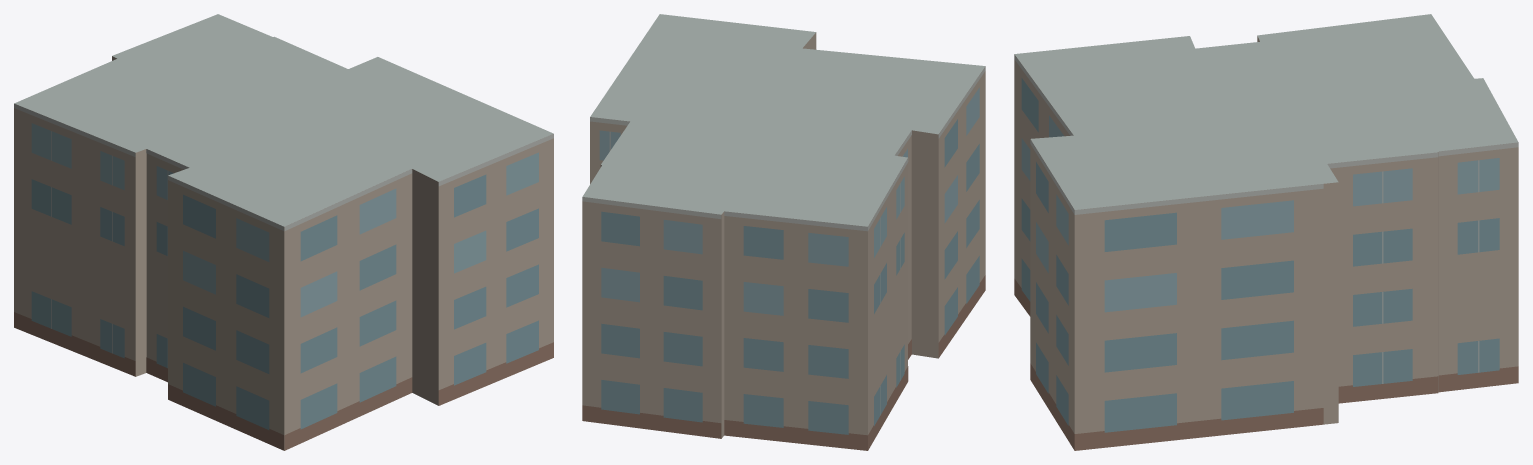
File: survey-upis-32595249.glb
3 renders of one model, left to right at view 1: azimuth 30°, elevation 25°; view 2: azimuth 150°, elevation 25°; view 3: azimuth 270°, elevation 25°, orthographic. The views are drawn at different scales.
Visible parts, largest first — view 1: survey-upis-32595249.tmp; view 2: survey-upis-32595249.tmp; view 3: survey-upis-32595249.tmp.
Part boxes in pixels (box(x1,y1,x2,y2)): survey-upis-32595249.tmp: box(14, 14, 553, 450); survey-upis-32595249.tmp: box(582, 14, 985, 450); survey-upis-32595249.tmp: box(1014, 14, 1518, 450).
Bounding box in the file's own units: 20.97 × 12 × 22.79.
